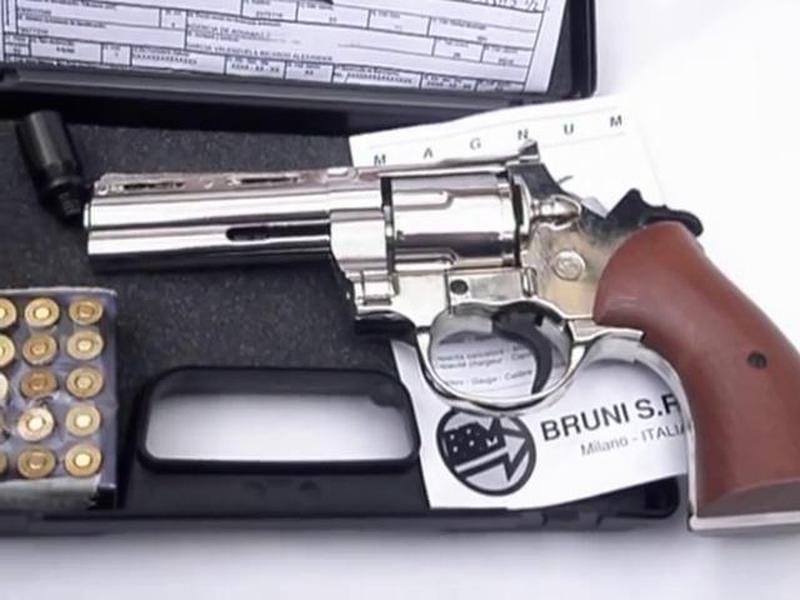Revolver: (63, 106, 800, 411)
